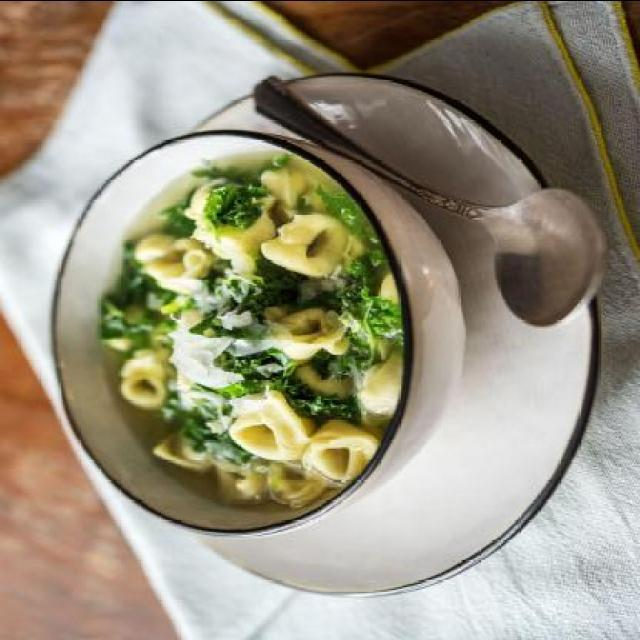Tortellini in broth: (107, 158, 405, 486)
